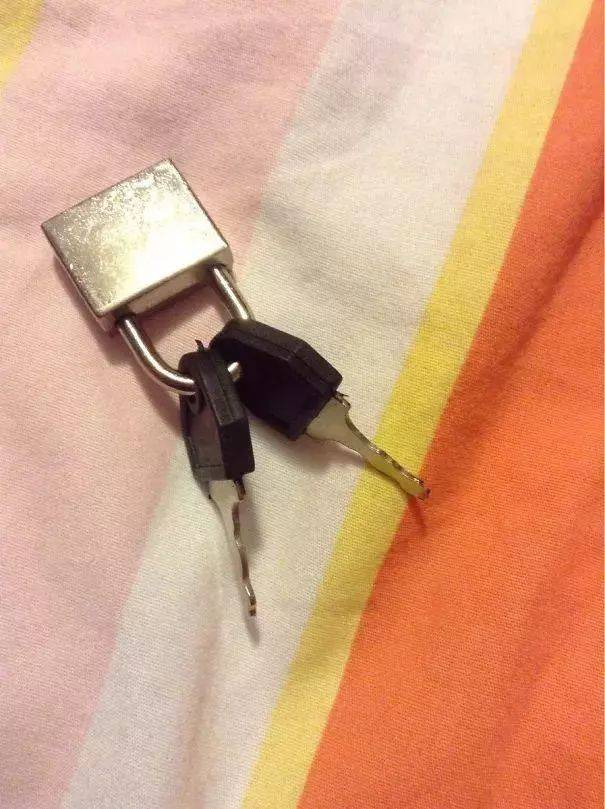key: (209, 309, 430, 499), (163, 336, 274, 627)
